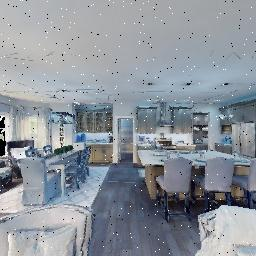chair: (192, 155, 242, 217), (16, 153, 63, 208), (155, 157, 194, 223), (61, 142, 90, 197), (238, 154, 256, 218)
door-frame: (113, 113, 138, 167)
table: (136, 147, 252, 205), (29, 145, 93, 197)
